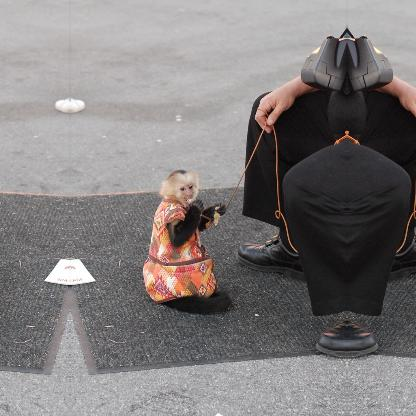Monkey: (141, 169, 229, 313)
